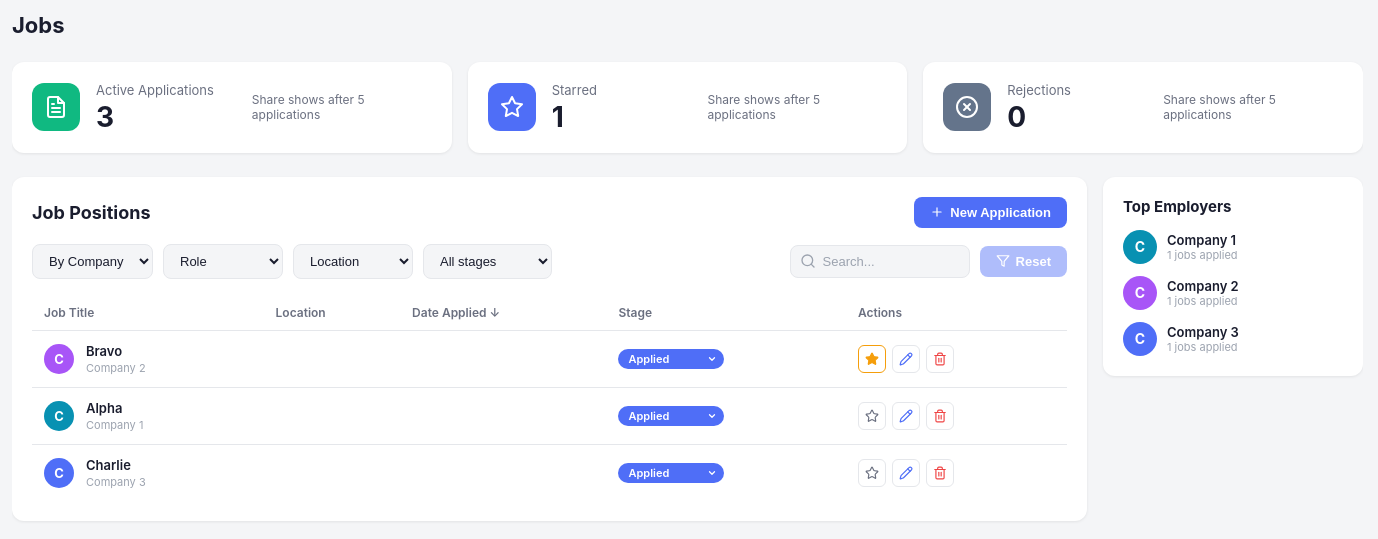
Test: Jobs star feature › flips the star right away and blocks double clicks while the request is pending
The image size is (1378, 539).
What coordinates should you click on to do the following:
click the button named "Star" in the row of "Charlie"
I would click on:
 (872, 473)
Its box is [858,459,886,487].
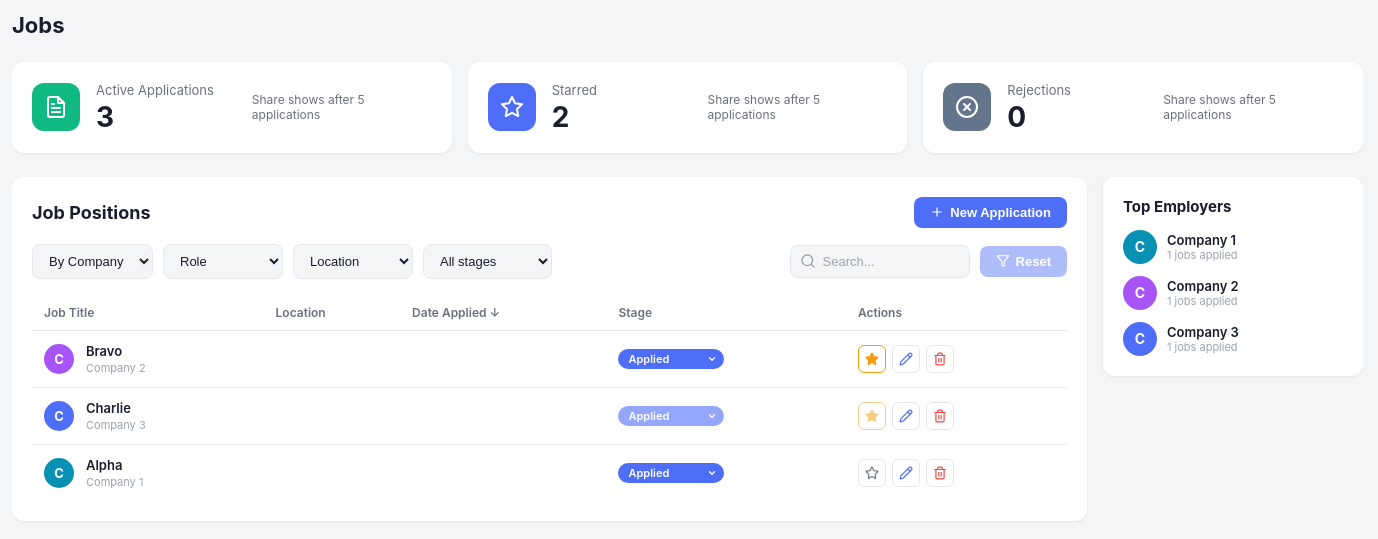
Expected: the button named "Unstar" in the row of "Charlie" is disabled
What coordinates should you click on to do the following:
click the button named "Unstar" in the row of "Charlie"
I would click on:
 (872, 416)
Its box is [858,402,886,430].
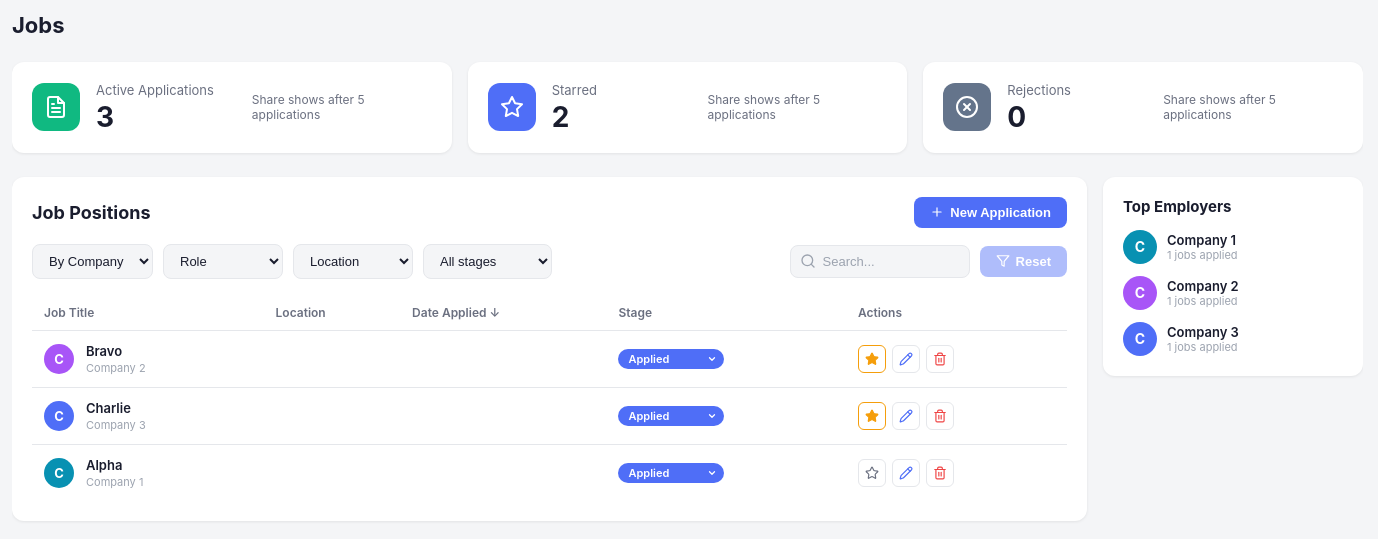
Expected: the button named "Unstar" in the row of "Charlie" is enabled, [858,402,886,430]
